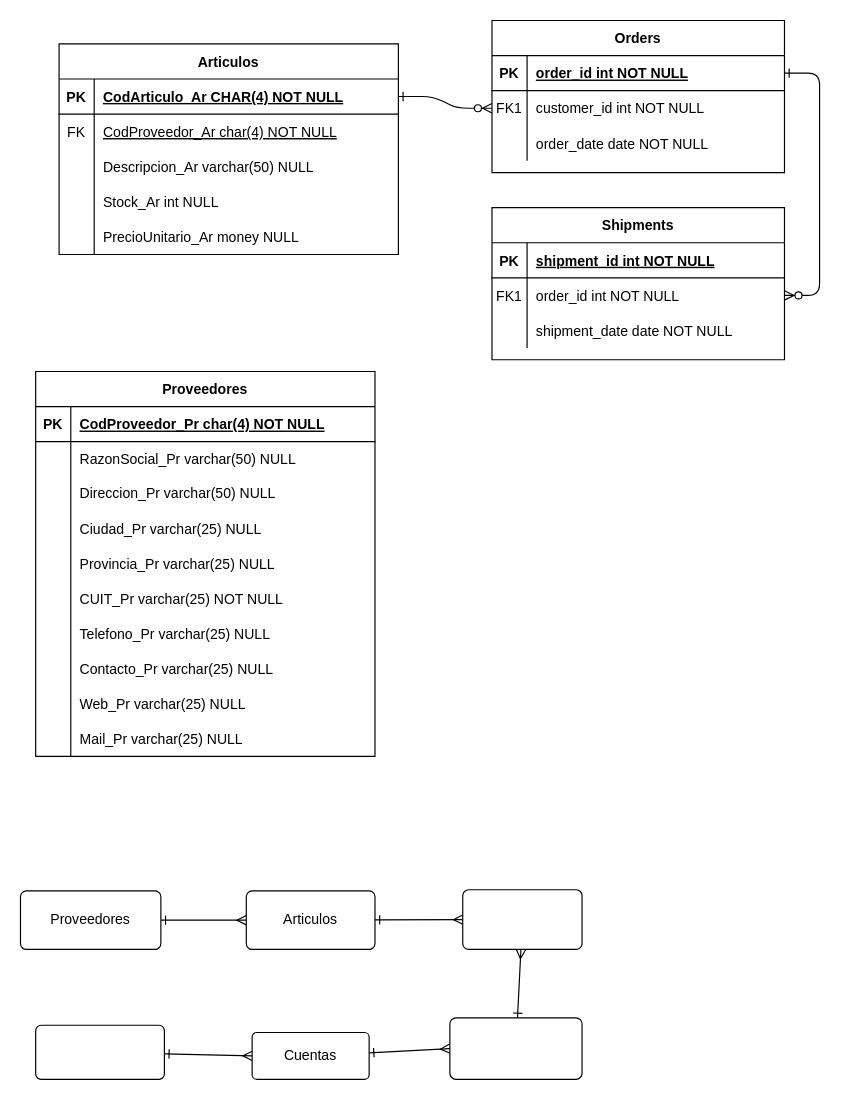
Image size: 851x1100. Some labels were removed from this diagram. Each missing label, with the centre of its shape:
"Clientes" goes at point (99, 1051).
"DetalleFactura" goes at point (522, 919).
"Facturas" goes at point (515, 1048).
